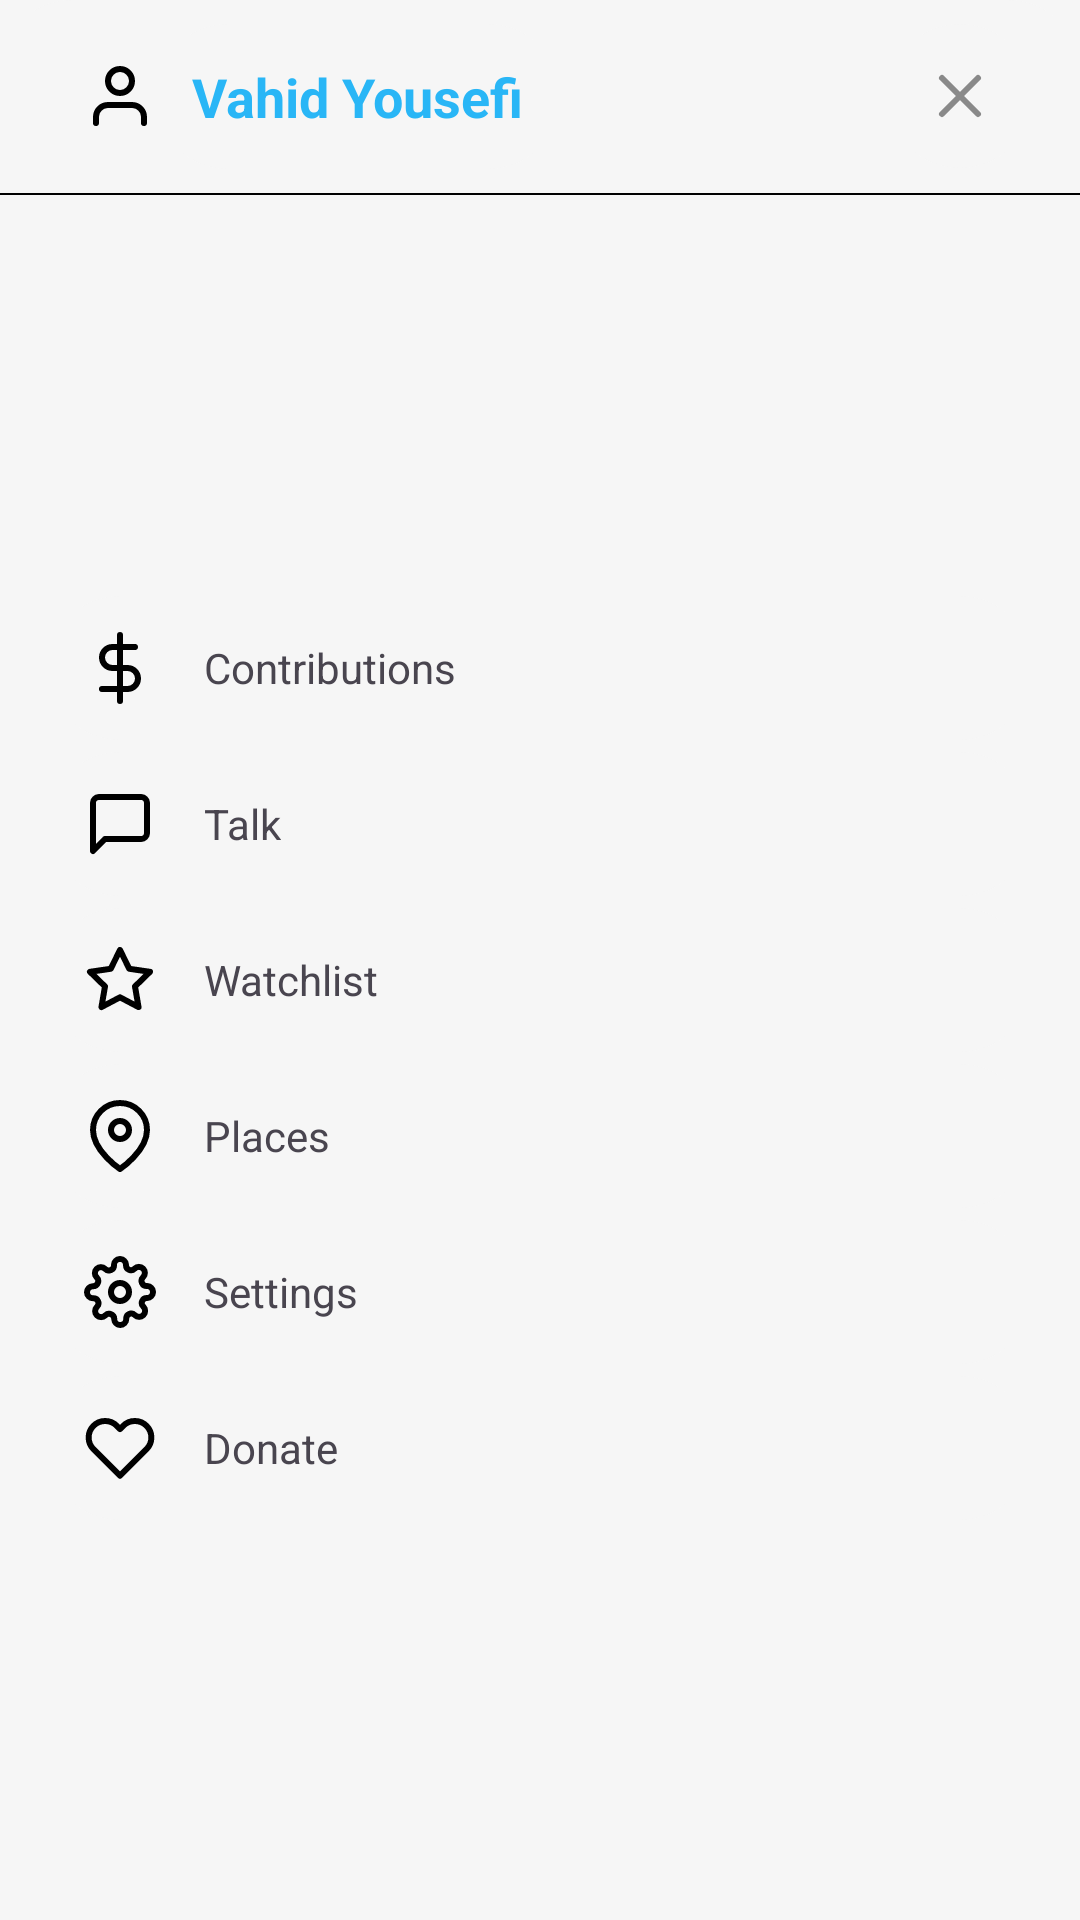

Where icons sit on this 1080×1920 app screen, as (x1, y1, x2, y2):
close: (939, 75, 981, 117)
doller: (99, 632, 141, 704)
star: (86, 947, 153, 1011)
user: (93, 66, 147, 126)
